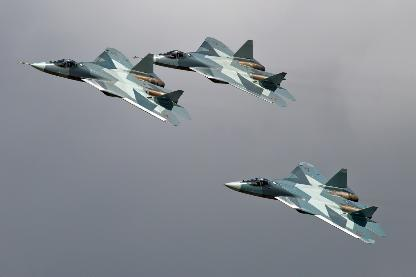SR71: (17, 46, 191, 125), (222, 160, 386, 242), (130, 36, 296, 106)
